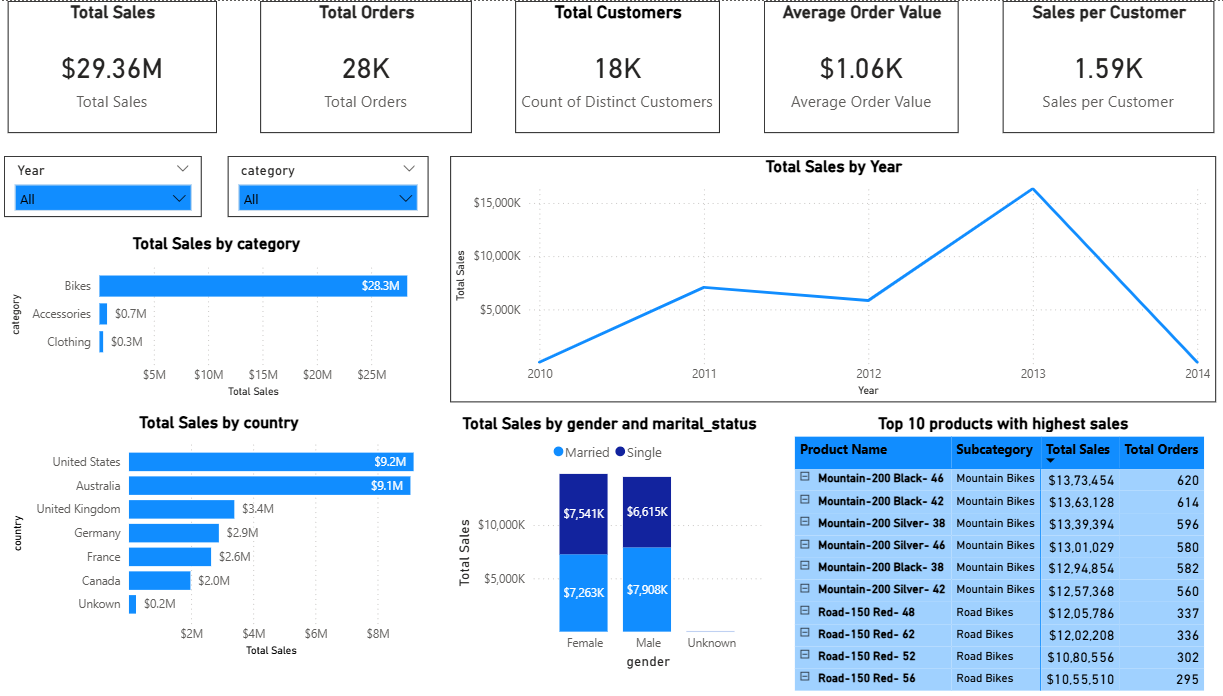

This screenshot's page, from the dashboard's own definition file:
{"tool":"powerbi","page":{"name":"Sales Overview","canvas":[1400,800],"ordinal":0},"visuals":[{"type":"clusteredBarChart","title":"Total Sales by category","fields":{"Category":["gold dim_products.category"],"Y":["gold fact_sales.Total Sales"]},"box":[6.1,240.9,437.8,174.9],"z":0},{"type":"lineChart","title":"Total Sales by Year","fields":{"Category":["Date.Year"],"Y":["gold fact_sales.Total Sales"]},"box":[467.5,160.1,793.5,255.4],"z":1000},{"type":"card","title":"Total Orders","fields":{"Values":["gold fact_sales.Total Orders"]},"box":[270.5,0,219.3,137.1],"z":2000},{"type":"card","title":"Sales per Customer","fields":{"Values":["gold fact_sales.Sales per Customer"]},"box":[1040.2,0,219.3,137.1],"z":3000},{"type":"card","title":"Total Sales","fields":{"Values":["gold fact_sales.Total Sales"]},"box":[8.7,0,216.4,137.1],"z":4000},{"type":"slicer","fields":{"Values":["Date.Year"]},"box":[5.8,160.1,204.9,63.5],"z":5000},{"type":"slicer","fields":{"Values":["gold dim_products.category"]},"box":[236.6,160.1,207.8,63.5],"z":6000},{"type":"clusteredBarChart","title":"Total Sales by country","fields":{"Category":["gold dim_customers.country"],"Y":["gold fact_sales.Total Sales"]},"box":[8.6,426.8,437.8,258],"z":7000},{"type":"columnChart","fields":{"Category":["gold dim_customers.gender"],"Series":["gold dim_customers.marital_status"],"Y":["gold fact_sales.Total Sales"]},"box":[469.2,427.1,327.5,269.8],"z":8000},{"type":"pivotTable","title":"Top 10 products with highest sales","fields":{"Values":["gold fact_sales.Total Sales","gold fact_sales.Total Orders"],"Rows":["gold dim_products.Product Name","gold dim_products.Subcategory"]},"box":[819.5,426.8,441.5,292.7],"z":9000},{"type":"card","title":"Total Customers","fields":{"Values":["gold fact_sales.Count of Distinct Customers"]},"box":[535.3,0,212.1,137.1],"z":10000},{"type":"card","title":"Average Order Value","fields":{"Values":["gold fact_sales.Average Order Value"]},"box":[792.8,0,202,137.1],"z":11000}]}

Visuals, with their boxes in screenshot pixels (x1, y1, x2, y2), scaled from the page's 1400x800 canvas onto the 1223x696 screenshot:
"Total Sales by category" clusteredBarChart: bbox(5, 210, 388, 362)
"Total Sales by Year" lineChart: bbox(408, 139, 1102, 361)
"Total Orders" card: bbox(236, 0, 428, 119)
"Sales per Customer" card: bbox(909, 0, 1100, 119)
"Total Sales" card: bbox(8, 0, 197, 119)
slicer - Date.Year: bbox(5, 139, 184, 195)
slicer - gold dim_products.category: bbox(207, 139, 388, 195)
"Total Sales by country" clusteredBarChart: bbox(8, 371, 390, 596)
columnChart - gold dim_customers.gender x gold dim_customers.marital_status: bbox(410, 372, 696, 606)
"Top 10 products with highest sales" pivotTable: bbox(716, 371, 1102, 626)
"Total Customers" card: bbox(468, 0, 653, 119)
"Average Order Value" card: bbox(693, 0, 869, 119)
